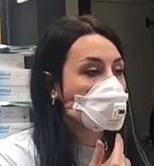OK: (67, 50, 129, 132)
